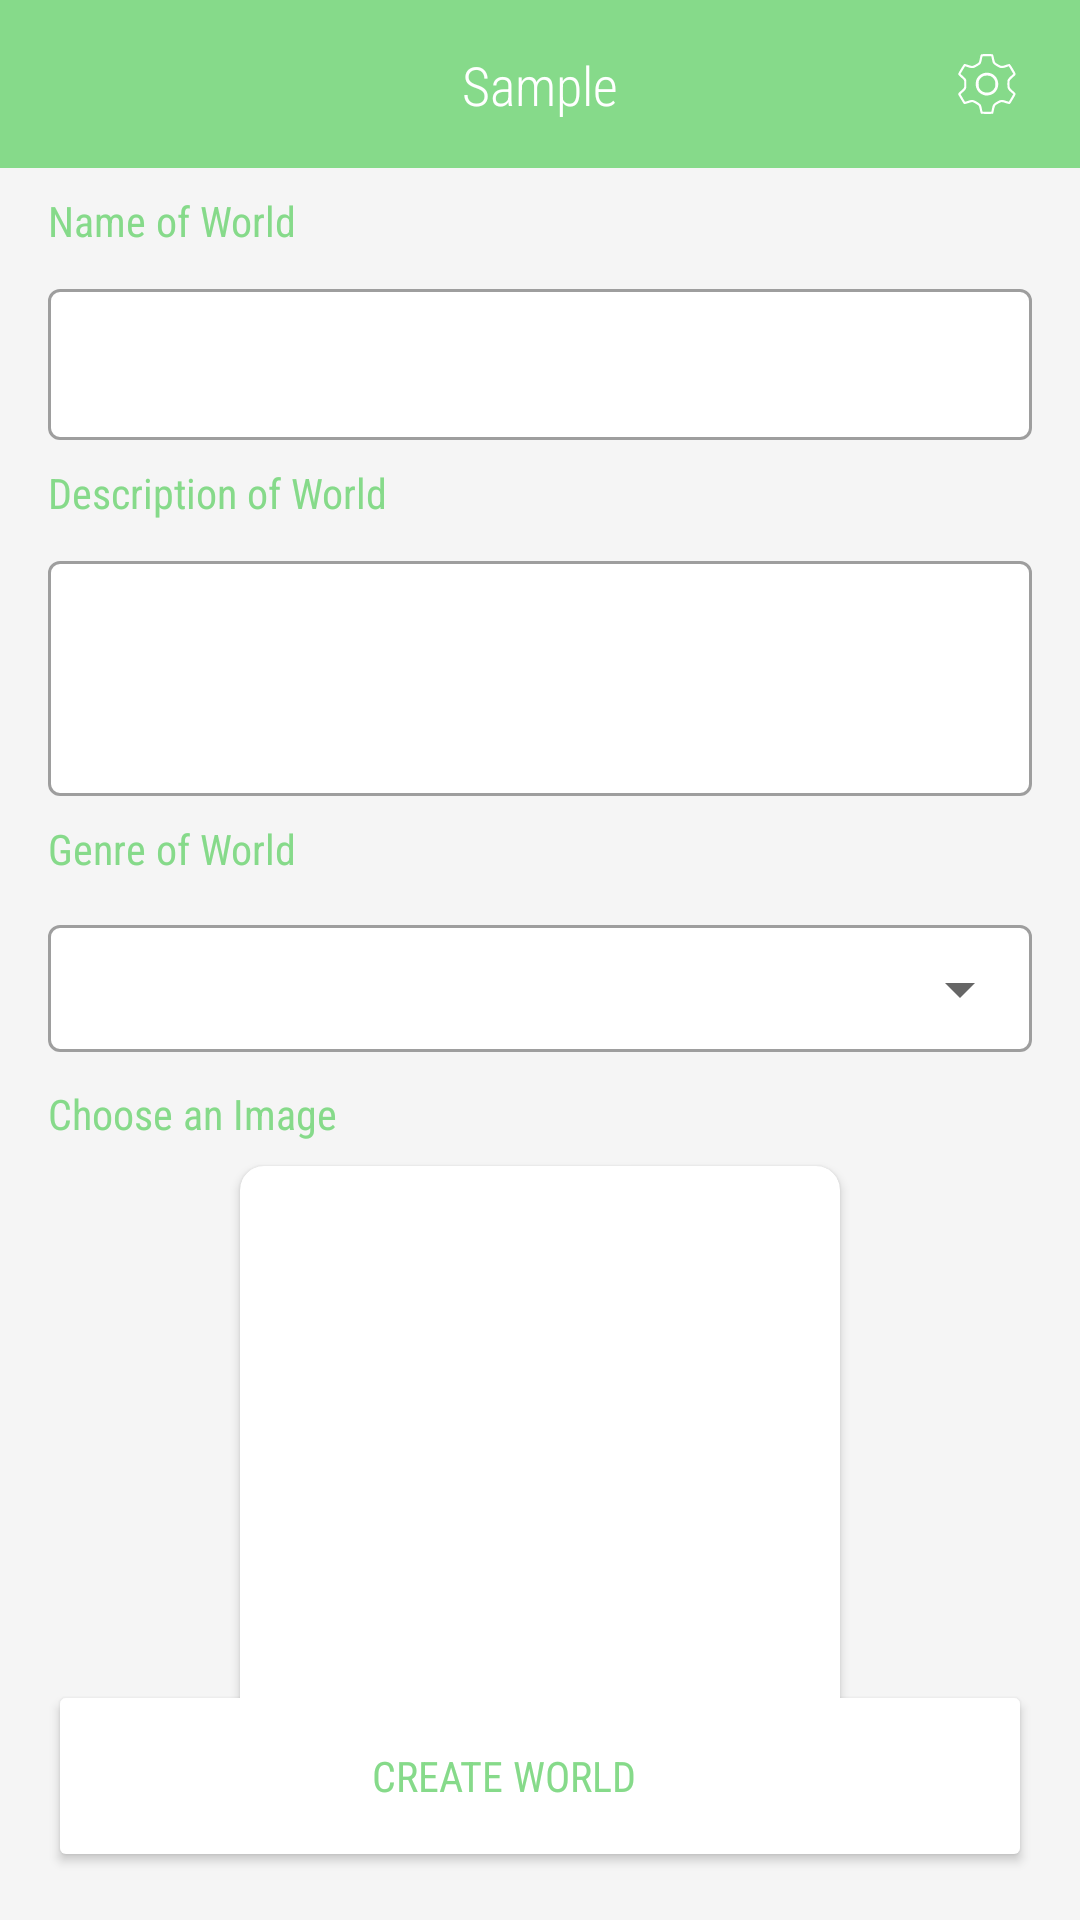

Icon bounding boxes for this 1080w x 1920h phone screenshot, format rect(x1, y1, x2, y2):
Settings Button: rect(958, 54, 1016, 114)
